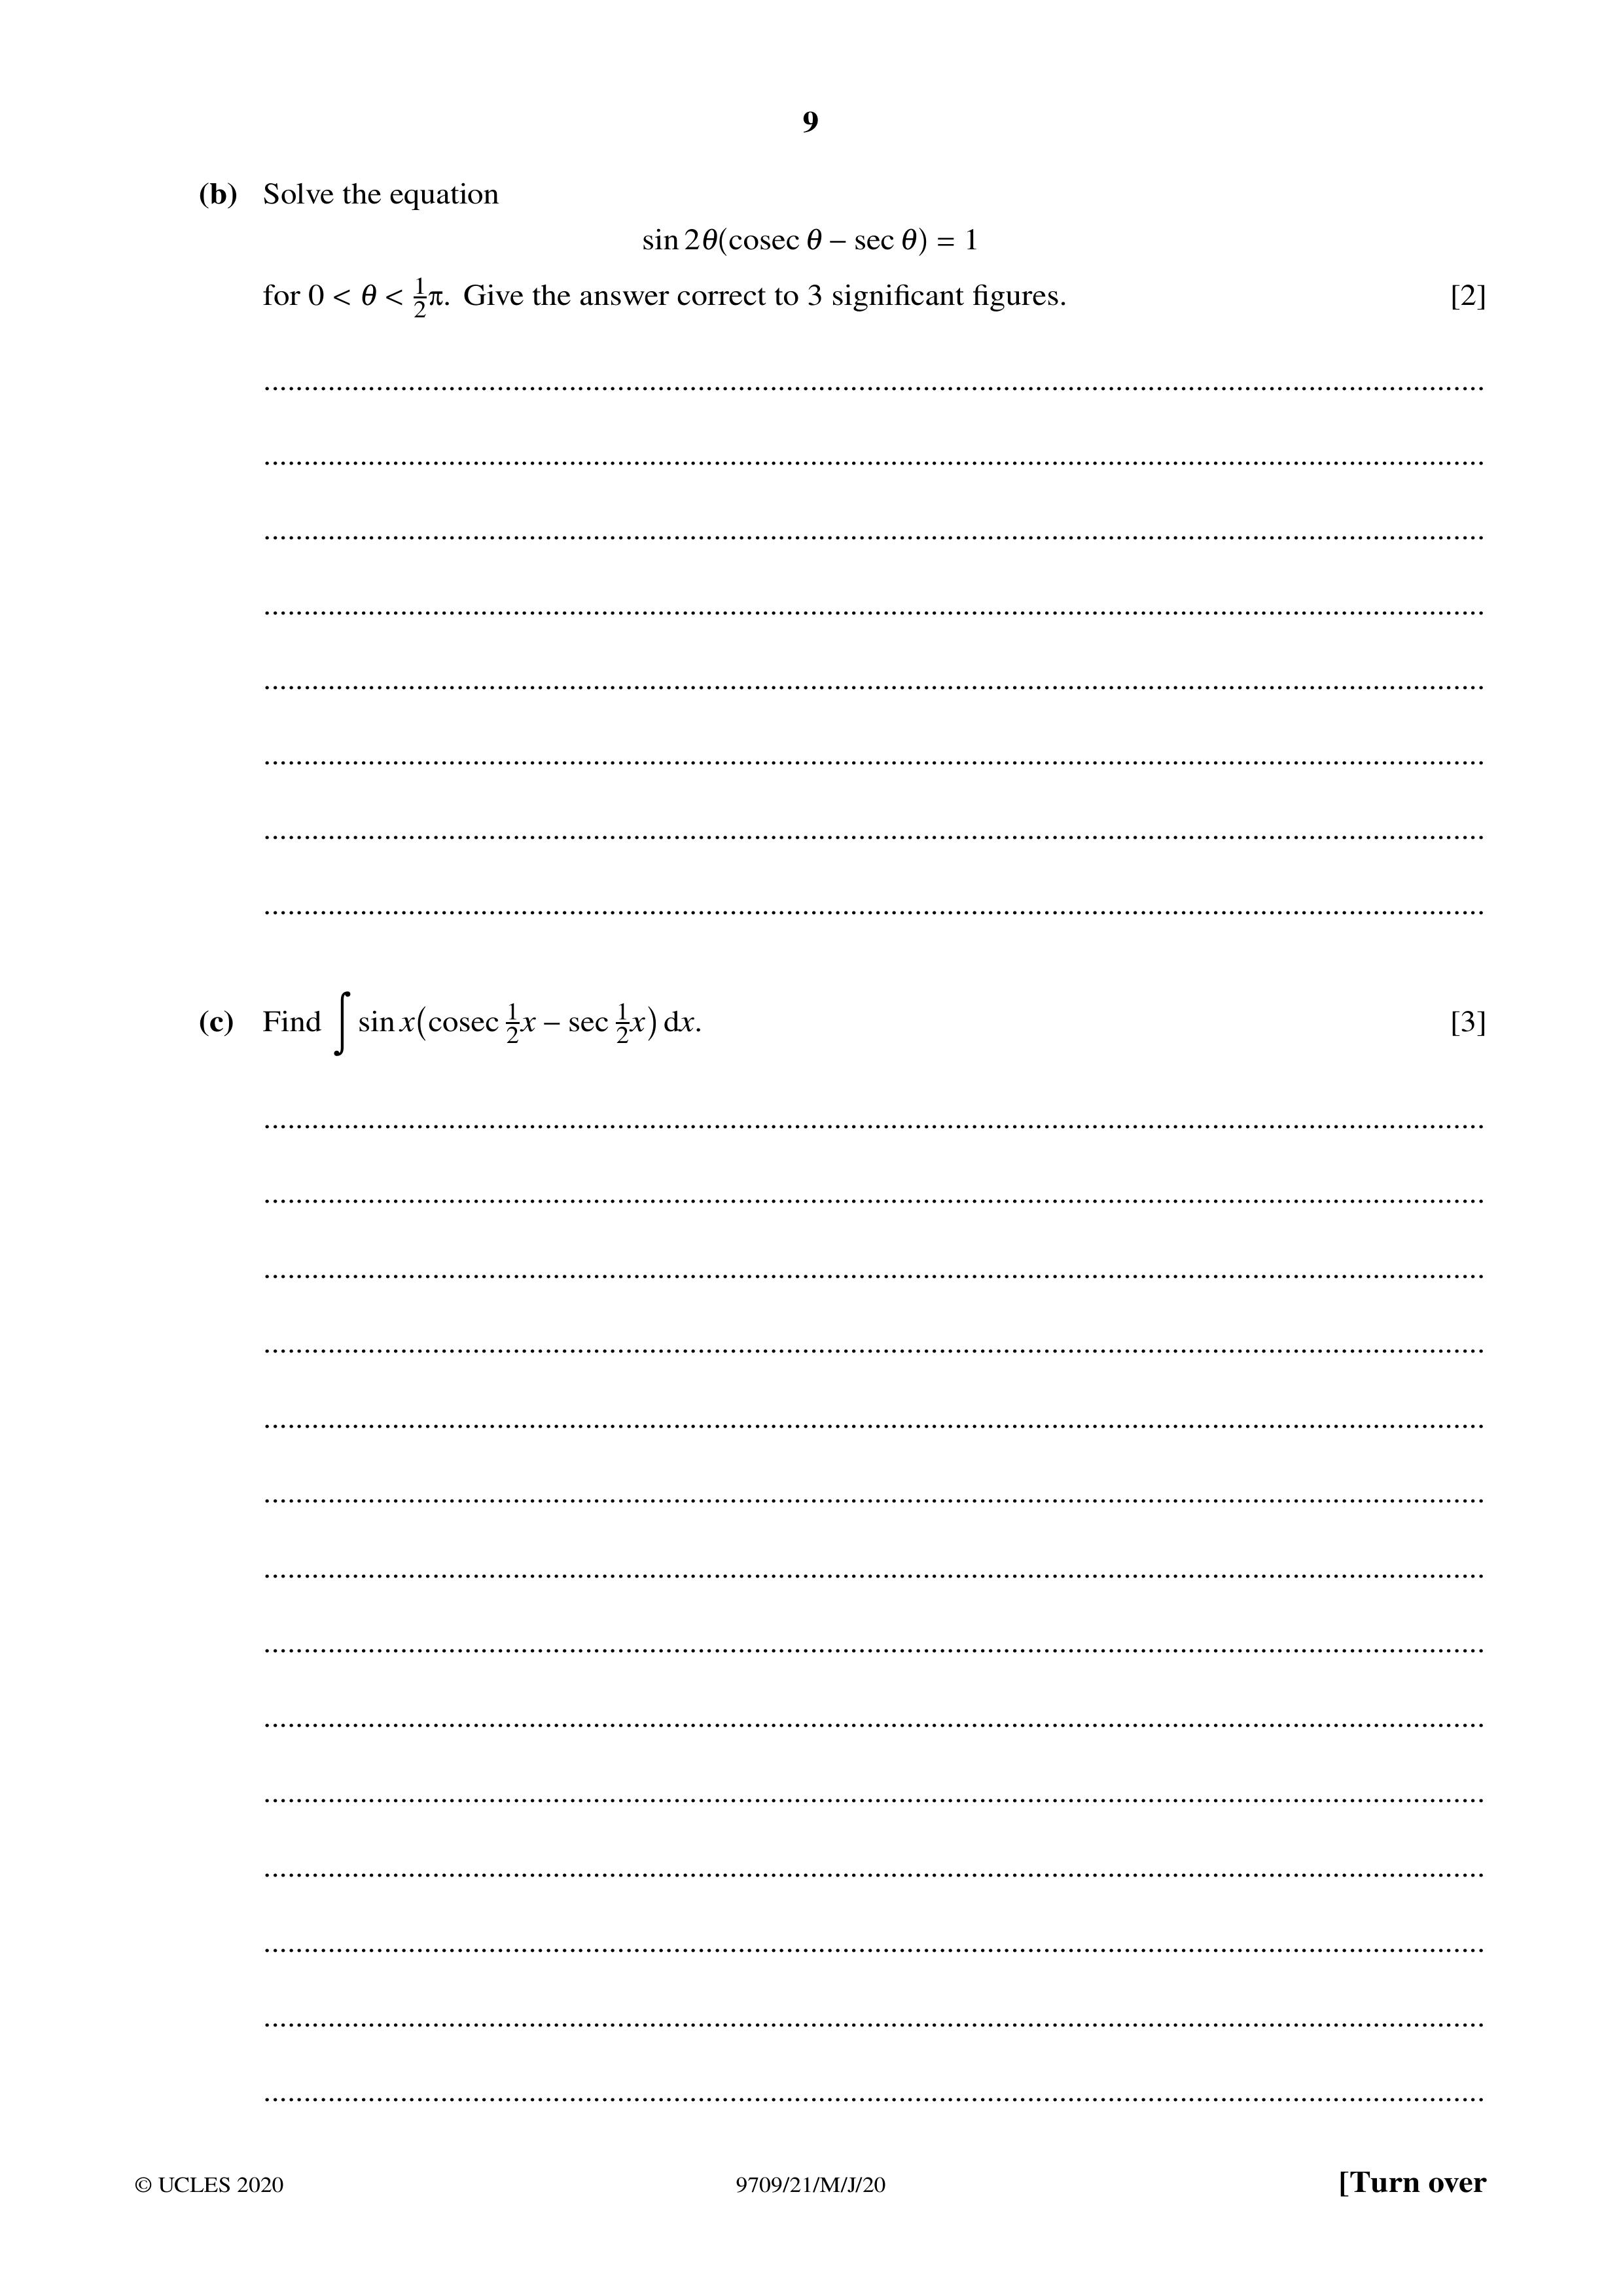question: (177, 144, 1532, 344), (170, 953, 1505, 1094)
